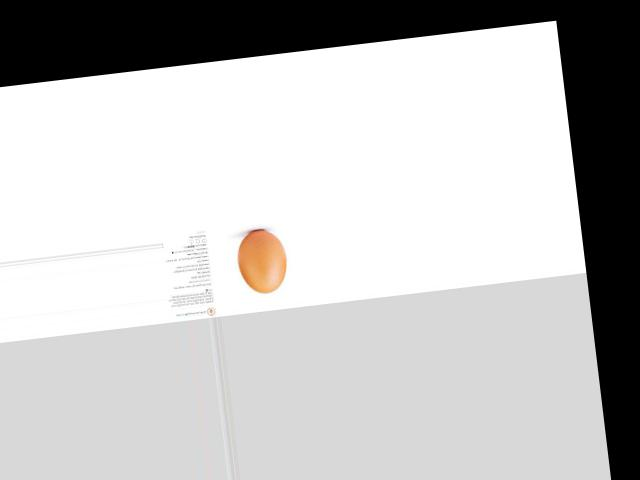egg: (234, 227, 289, 295)
